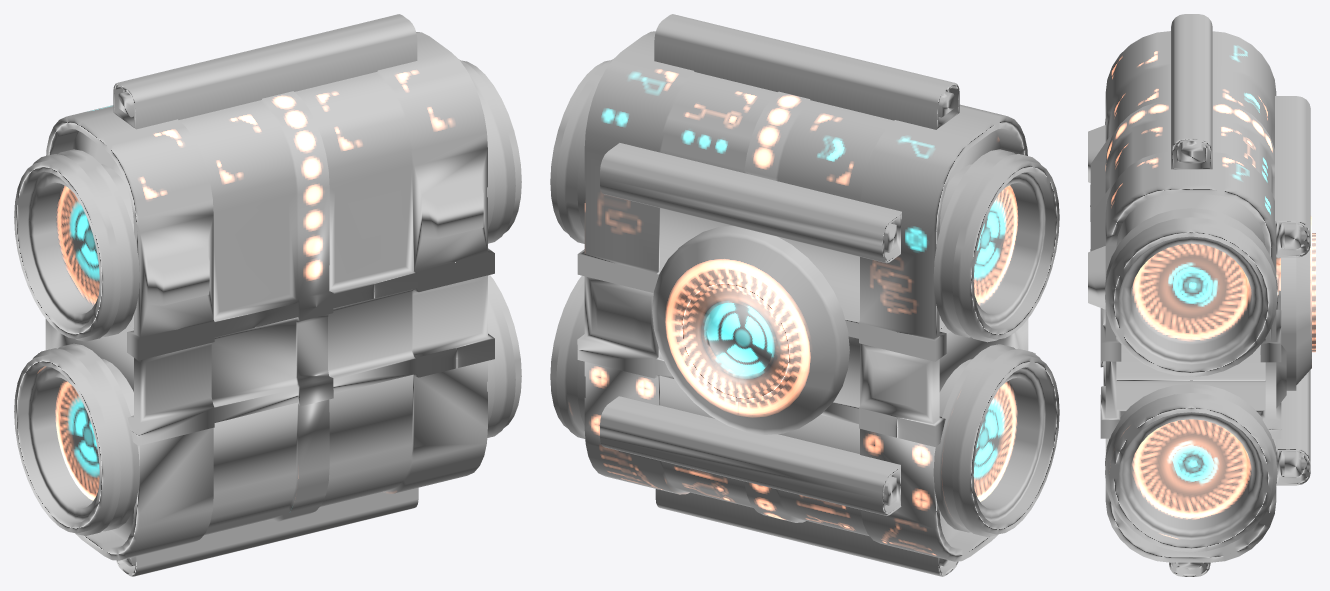
File: SM_BigShip_EngineRight.fbx
The picture shows the model from 3 angles, left to right: view 1: azimuth 30°, elevation 25°; view 2: azimuth 150°, elevation 25°; view 3: azimuth 270°, elevation 25°; orthographic projection. The views are drawn at different scales.
Visible parts, largest first — view 1: SM_BigShip_EngineRight_LOD0; view 2: SM_BigShip_EngineRight_LOD0; view 3: SM_BigShip_EngineRight_LOD0.
Part boxes in pixels (box(x1,y1,x2,y2)): SM_BigShip_EngineRight_LOD0: box(14, 14, 521, 576); SM_BigShip_EngineRight_LOD0: box(550, 14, 1059, 576); SM_BigShip_EngineRight_LOD0: box(1088, 14, 1315, 576).
Bounding box in the file's own units: 5518 × 6143 × 2889.
